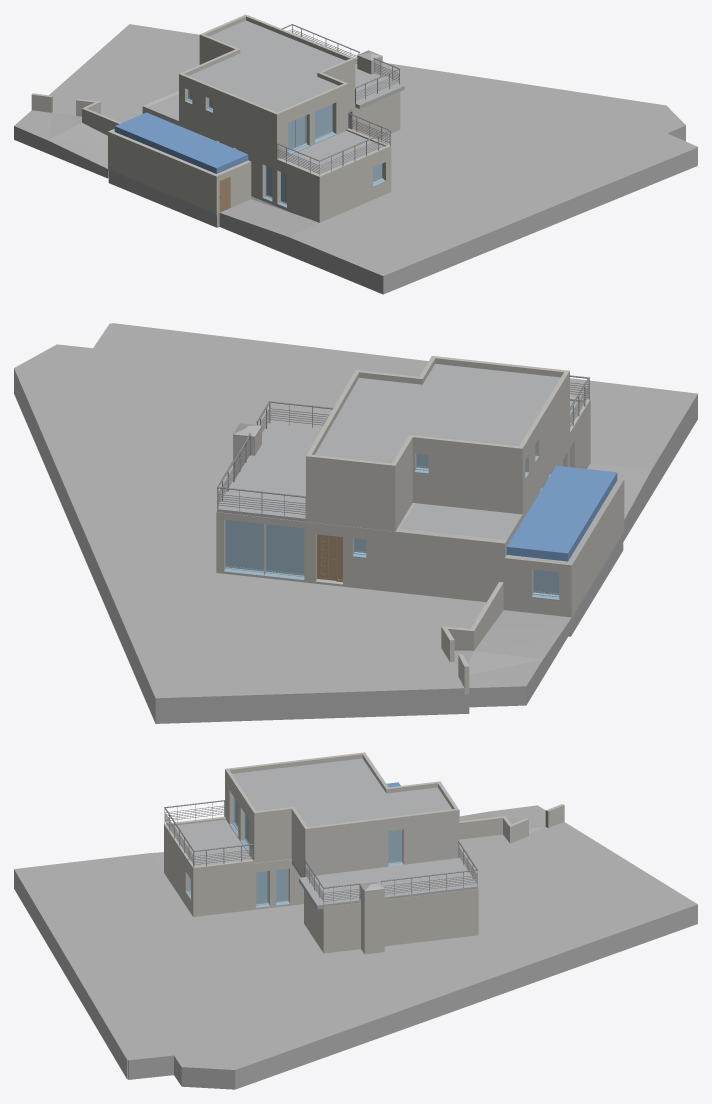
File: agence-architecte.glb
3 views of the same model, one above another, from view 1: azimuth 30°, elevation 25°; view 2: azimuth 150°, elevation 25°; view 3: azimuth 270°, elevation 25° (orthographic). The views are drawn at different scales.
Parts seen in each view (by area): view 1: 3g9ThKwtDABBEQE_RQh0QT, 3PtWBnPaz9$hCcSplS6eS6, 3IGdBGkFb1qxc2t0XLug$E, 1T2sIP_O94T9v21zZGghdb, 2Uku09ZkH8GgEnnAhBAFH2, 2PPYQghcXAev1TuHEw7f9v, 2PPYQghcXAev1TuHEw7eJa, 1_18pfaDb5ZffICQsl4Huf, 2Uku09ZkH8GgEnnAhBAFIt, 2PPYQghcXAev1TuHEw7fBx, 2PPYQghcXAev1TuHEw7eAf, 1JEW7OtADEYA1K6iqSQjNY (+14 smaller); view 2: 3g9ThKwtDABBEQE_RQh0QT, 3PtWBnPaz9$hCcSplS6eS6, 0ADby0mj56LQoI9XikVW_S, 3IGdBGkFb1qxc2t0XLug$E, 3PtWBnPaz9$hCcSplS6eiF, 1T2sIP_O94T9v21zZGghdb, 2Uku09ZkH8GgEnnAhBAFHB, 2Uku09ZkH8GgEnnAhBAFHe, 1_18pfaDb5ZffICQsl4G7o, 2Uku09ZkH8GgEnnAhBAFH2, 2PPYQghcXAev1TuHEw7f9v, 2mfF_$PG1FJRqqaX94cLFR (+19 smaller); view 3: 3g9ThKwtDABBEQE_RQh0QT, 3PtWBnPaz9$hCcSplS6eS6, 2PPYQghcXAev1TuHEw7eBi, 2Uku09ZkH8GgEnnAhBAFIm, 3PtWBnPaz9$hCcSplS6eiF, 2PPYQghcXAev1TuHEw7eHi, 1_18pfaDb5ZffICQsl4Huf, 2Uku09ZkH8GgEnnAhBAFIs, 1_18pfaDb5ZffICQsl4GA6, 1JEW7OtADEYA1K6iqSQjNY, 1JEW7OtADEYA1K6iqSQZak, 1JEW7OtADEYA1K6iqSQi1_ (+11 smaller).
Part boxes in pixels (x1,y1,x2,y2): 3g9ThKwtDABBEQE_RQh0QT: (49, 24, 697, 294); 3PtWBnPaz9$hCcSplS6eS6: (189, 20, 344, 112); 3IGdBGkFb1qxc2t0XLug$E: (14, 110, 108, 178); 1T2sIP_O94T9v21zZGghdb: (114, 112, 248, 173); 2Uku09ZkH8GgEnnAhBAFH2: (183, 83, 272, 159); 2PPYQghcXAev1TuHEw7f9v: (108, 130, 182, 198); 2PPYQghcXAev1TuHEw7eJa: (315, 154, 387, 222); 1_18pfaDb5ZffICQsl4Huf: (281, 130, 384, 174); 2Uku09ZkH8GgEnnAhBAFIt: (273, 93, 344, 161); 2PPYQghcXAev1TuHEw7fBx: (180, 160, 219, 213); 2PPYQghcXAev1TuHEw7eAf: (348, 93, 396, 139); 1JEW7OtADEYA1K6iqSQjNY: (277, 112, 390, 176); 3g9ThKwtDABBEQE_RQh0QT: (14, 323, 697, 723); 3PtWBnPaz9$hCcSplS6eS6: (315, 364, 560, 463); 0ADby0mj56LQoI9XikVW_S: (305, 521, 506, 602); 3IGdBGkFb1qxc2t0XLug$E: (454, 610, 571, 707); 3PtWBnPaz9$hCcSplS6eiF: (217, 420, 323, 521); 1T2sIP_O94T9v21zZGghdb: (506, 465, 617, 561); 2Uku09ZkH8GgEnnAhBAFHB: (412, 447, 524, 514); 2Uku09ZkH8GgEnnAhBAFHe: (313, 467, 397, 531); 1_18pfaDb5ZffICQsl4G7o: (395, 503, 521, 542); 2Uku09ZkH8GgEnnAhBAFH2: (524, 385, 567, 510); 2PPYQghcXAev1TuHEw7f9v: (566, 508, 606, 617); 2mfF_$PG1FJRqqaX94cLFR: (224, 519, 266, 575); 3g9ThKwtDABBEQE_RQh0QT: (14, 822, 697, 1089); 3PtWBnPaz9$hCcSplS6eS6: (232, 758, 451, 826); 2PPYQghcXAev1TuHEw7eBi: (322, 888, 478, 953); 2Uku09ZkH8GgEnnAhBAFIm: (311, 818, 459, 875); 3PtWBnPaz9$hCcSplS6eiF: (299, 858, 477, 909); 2PPYQghcXAev1TuHEw7eHi: (191, 867, 254, 916); 1_18pfaDb5ZffICQsl4Huf: (170, 819, 251, 866); 2Uku09ZkH8GgEnnAhBAFIs: (252, 817, 291, 863); 1_18pfaDb5ZffICQsl4GA6: (308, 808, 459, 836); 1JEW7OtADEYA1K6iqSQjNY: (164, 800, 254, 867); 1JEW7OtADEYA1K6iqSQZak: (254, 859, 303, 909); 1JEW7OtADEYA1K6iqSQi1_: (364, 890, 382, 954).
Bounding box in the file's own units: 34.79 × 7.12 × 37.98.
